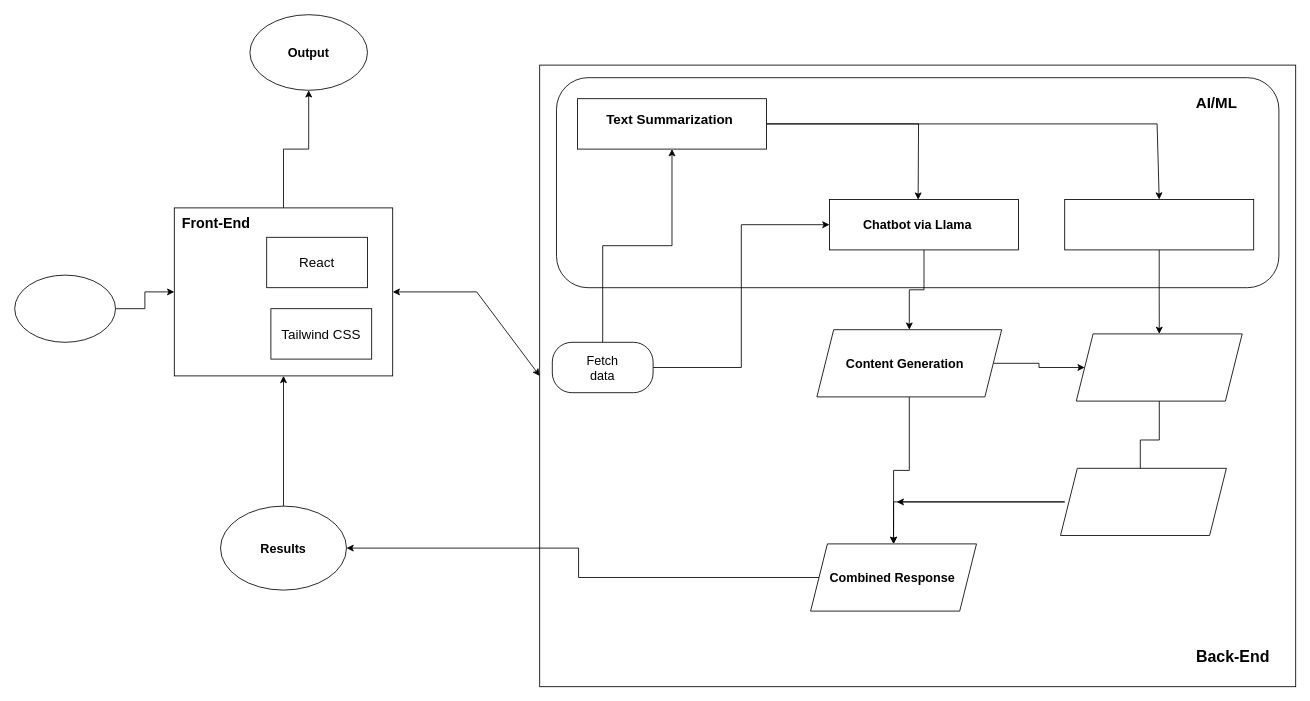
This 1310x701 diagram has some shape labels left out. Each missing label, with the box of its shape:
Additional Information: (1060, 467, 1226, 536)
GPT2LMHeadModel: (1064, 199, 1254, 250)
Text: (1075, 333, 1242, 401)
USER: (14, 274, 116, 342)
